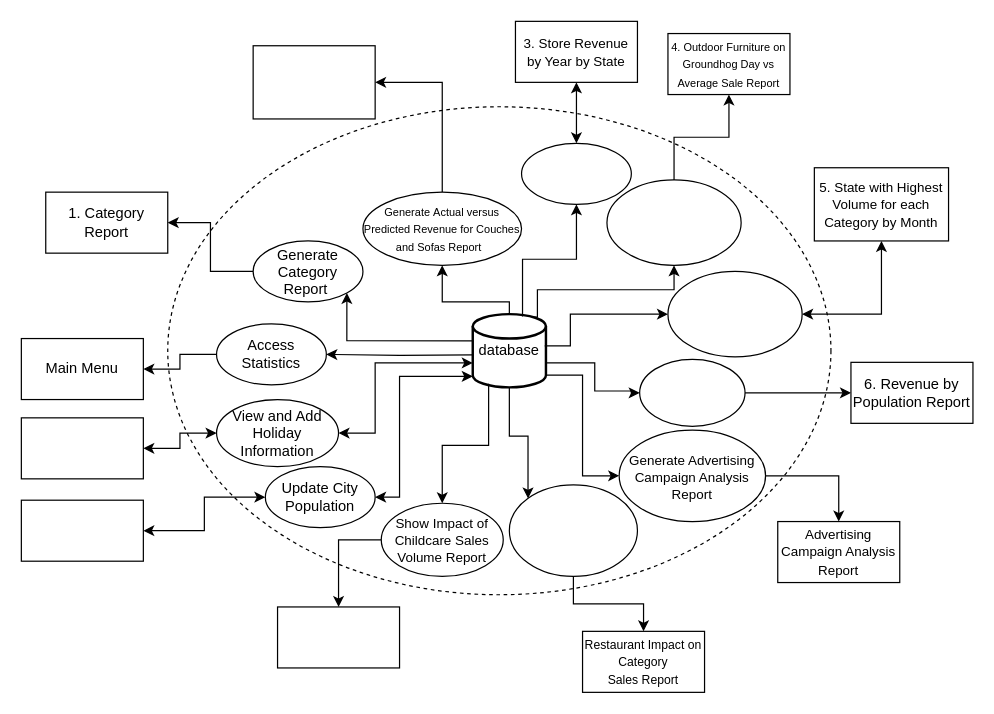
Image size: 994x714. Some labels were removed from this diagram. Here are the shapes that lost their labels. From the top down, the centre of each, then its label:
At [313,82]: "2. Actual versus Predicted Revenue for Couches and Sofas Report".
At [575,173]: "View Store Revenue by Year by State".
At [673,222]: "Generate Outdoor Furniture on Groundhog Day vs Average Sale Report".
At [734,313]: "Show State with Highest Volume for each Category by Month".
At [691,392]: "Show Revenue by Population".
At [81,448]: "Holiday Information".
At [81,530]: "City Population Information".
At [572,530]: "Generate Restaurant Impact on Category Sales Report".
At [338,637]: "Childcare Sales Volume Report".
